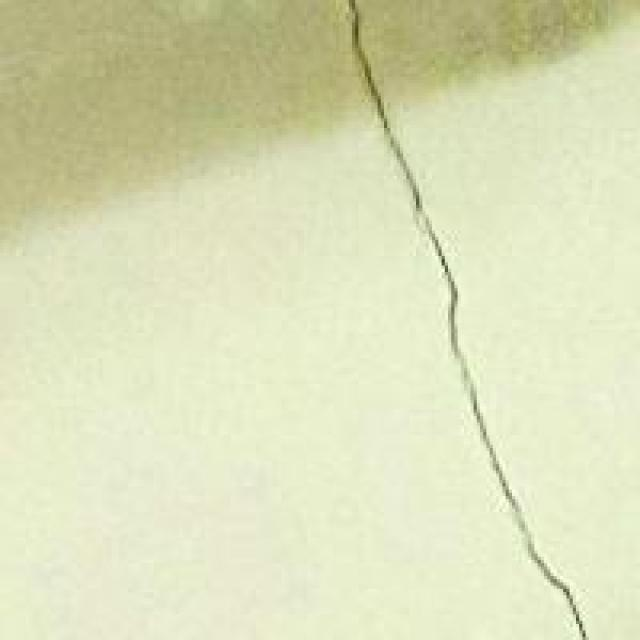crack: (314, 3, 611, 637)
